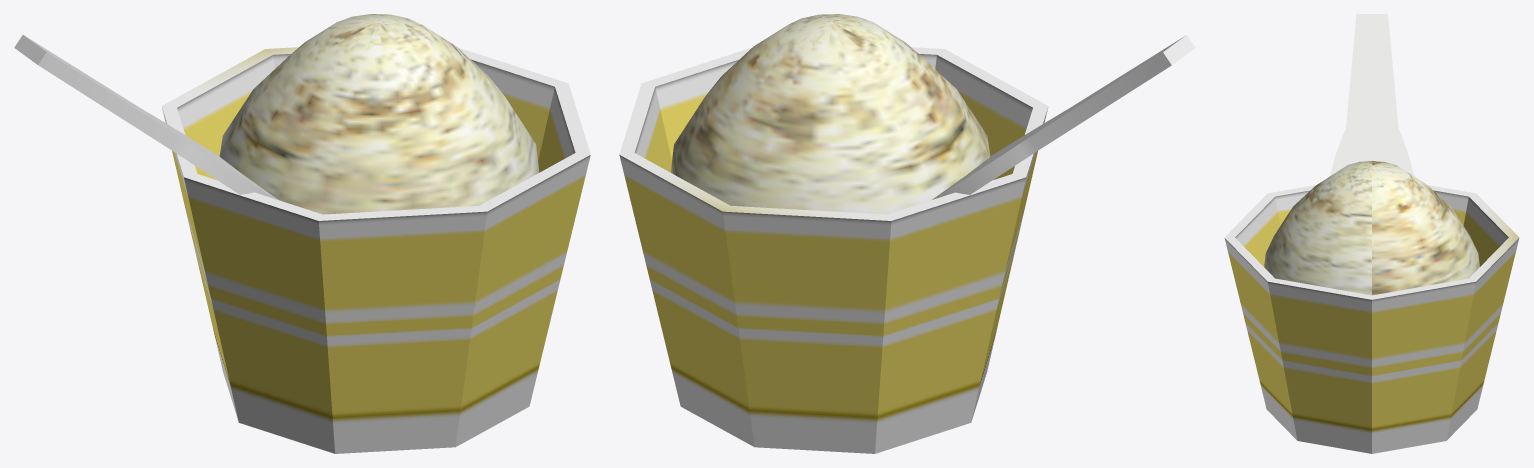
File: IceCream_CupA.fbx
3 views of the same model, side by side, from view 1: azimuth 30°, elevation 25°; view 2: azimuth 150°, elevation 25°; view 3: azimuth 270°, elevation 25° (orthographic). The views are drawn at different scales.
Visible parts, largest first — view 1: IceCupA, IceCream_CupA, IceCreamSpoonA; view 2: IceCupA, IceCream_CupA, IceCreamSpoonA; view 3: IceCupA, IceCream_CupA, IceCreamSpoonA.
Part boxes in pixels (x1,y1,x2,y2): IceCupA: (161, 47, 590, 453); IceCream_CupA: (219, 14, 539, 214); IceCreamSpoonA: (14, 35, 277, 199); IceCupA: (619, 47, 1048, 453); IceCream_CupA: (670, 14, 990, 214); IceCreamSpoonA: (932, 35, 1195, 199); IceCupA: (1224, 185, 1519, 453); IceCream_CupA: (1264, 160, 1479, 295); IceCreamSpoonA: (1330, 14, 1414, 176).
Size of the model in its own units: 163 by 123 by 115.
